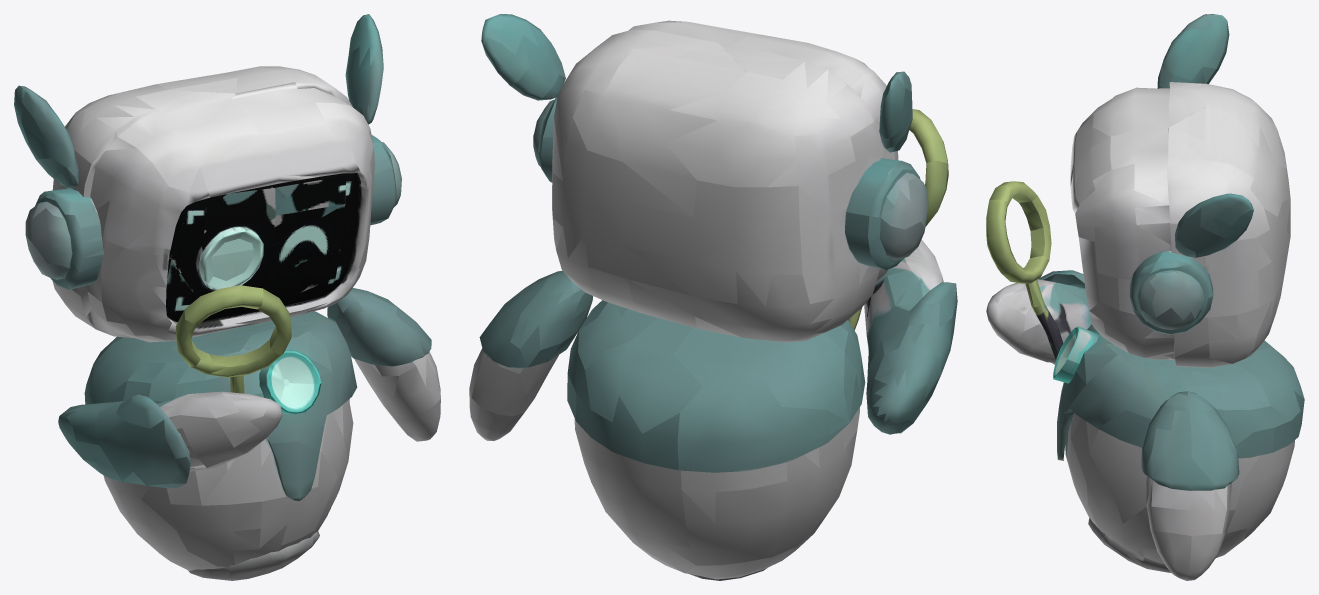
Rendered from robot-1.glb.
3 views of the same model, side by side, from view 1: azimuth 30°, elevation 25°; view 2: azimuth 150°, elevation 25°; view 3: azimuth 270°, elevation 25° (orthographic). The views are drawn at different scales.
Parts seen in each view (by area): view 1: mesh_node; view 2: mesh_node; view 3: mesh_node.
Boxes of the visible parts, <box> form: mesh_node: <box>14,14,440,580</box>; mesh_node: <box>469,14,957,580</box>; mesh_node: <box>986,14,1304,580</box>.
Size of the model in its own units: 0.8242 by 1 by 0.6191.
1 material, 1 textured.
